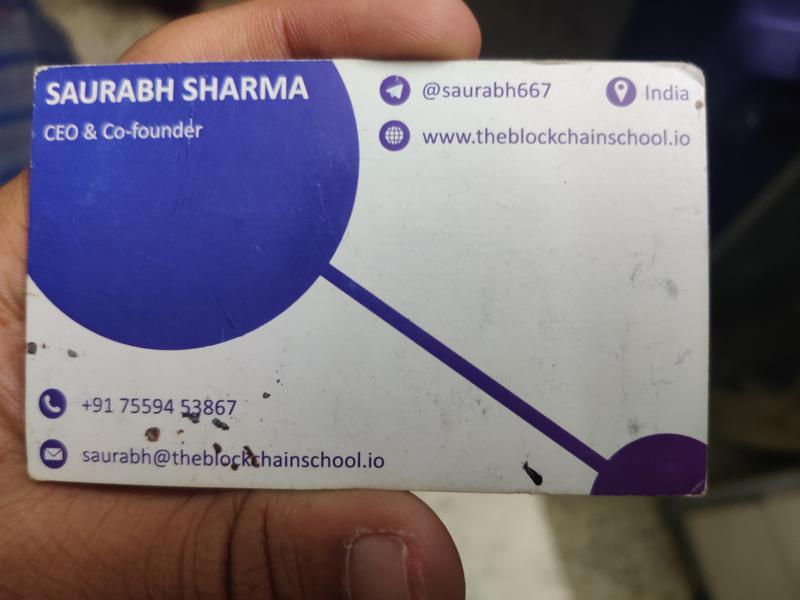card: (22, 49, 718, 501)
